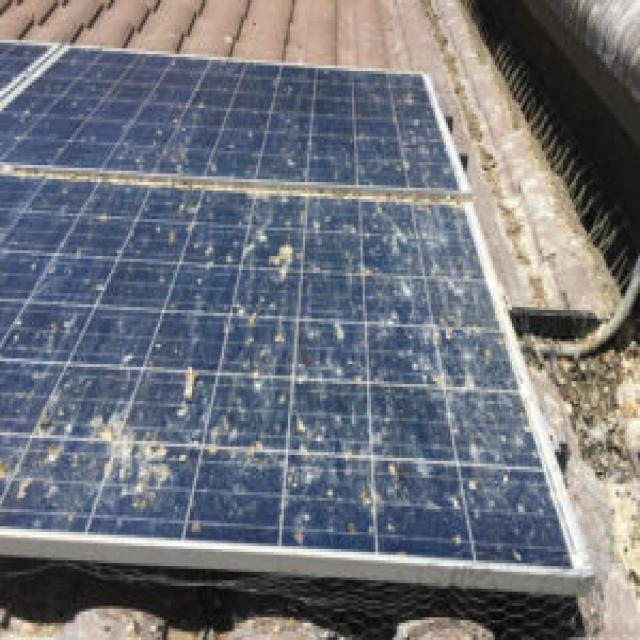dust-solar-panel: (0, 38, 588, 579)
